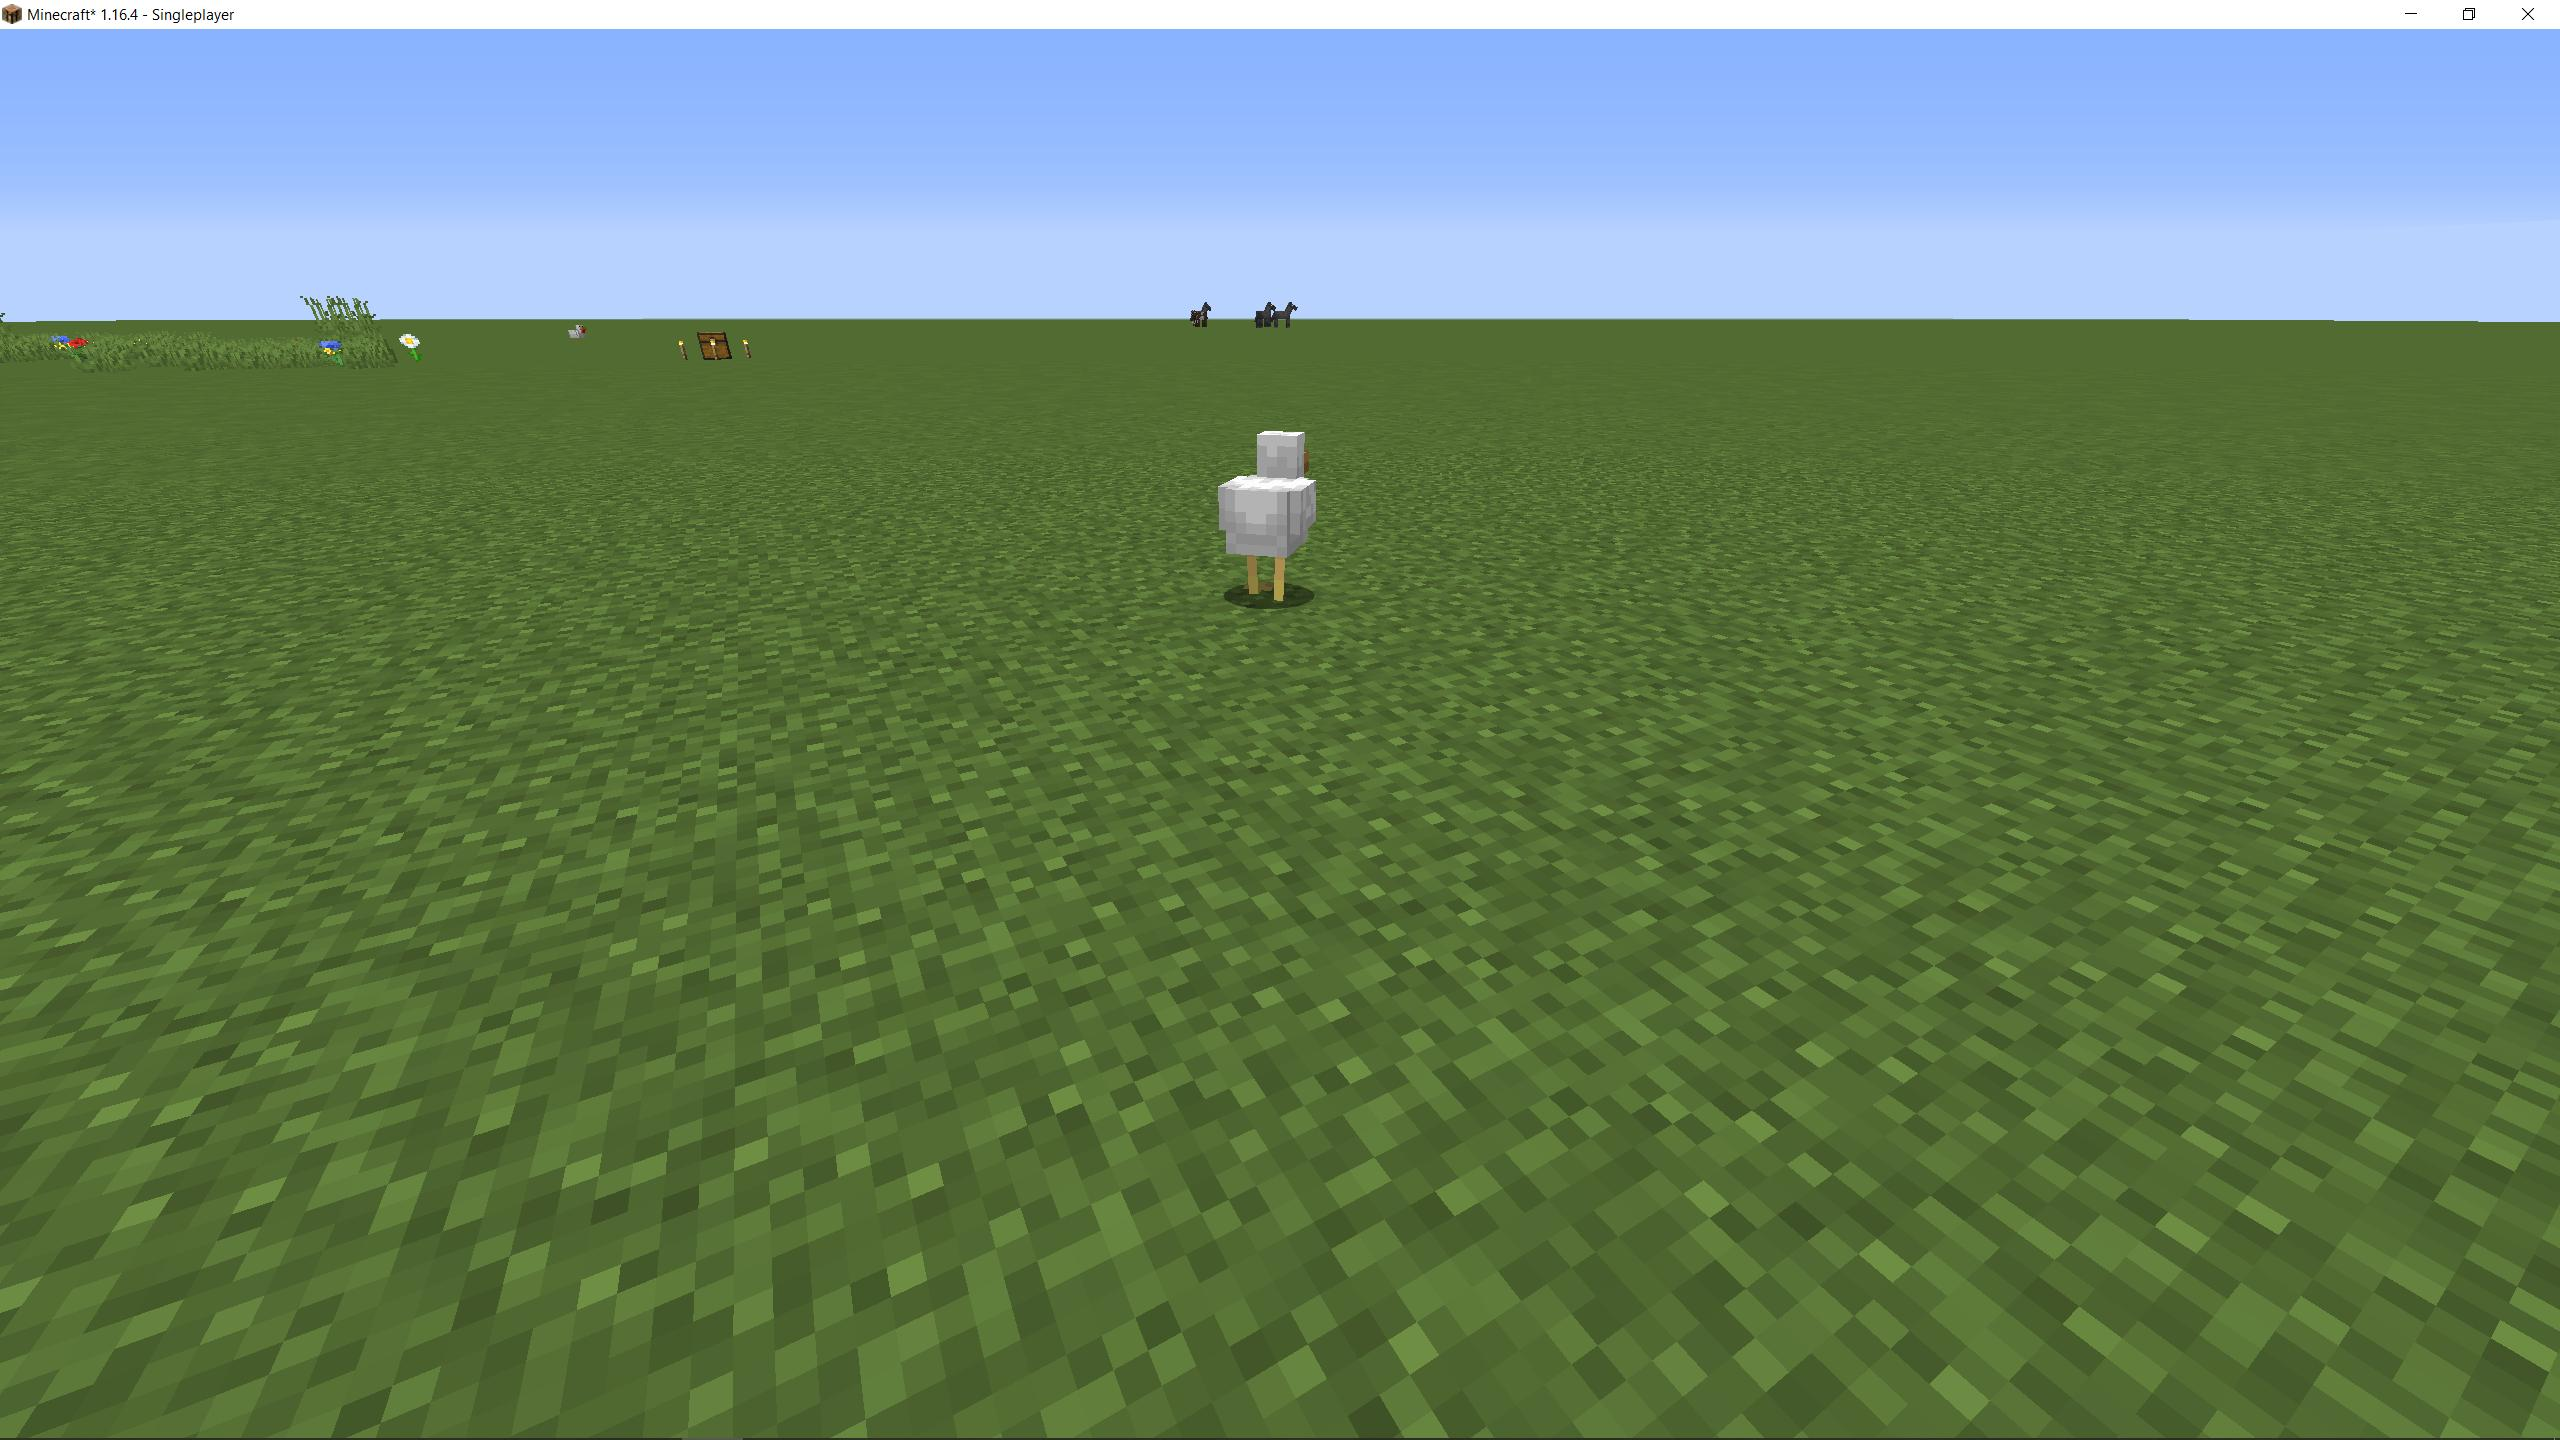chicken: (1211, 420, 1333, 608)
